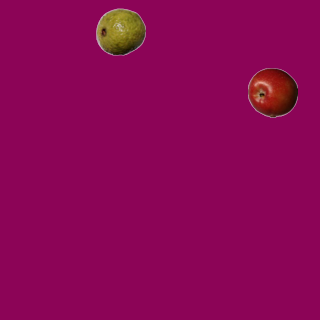Apple Braeburn: (247, 67, 297, 117)
Guava: (95, 6, 145, 56)
